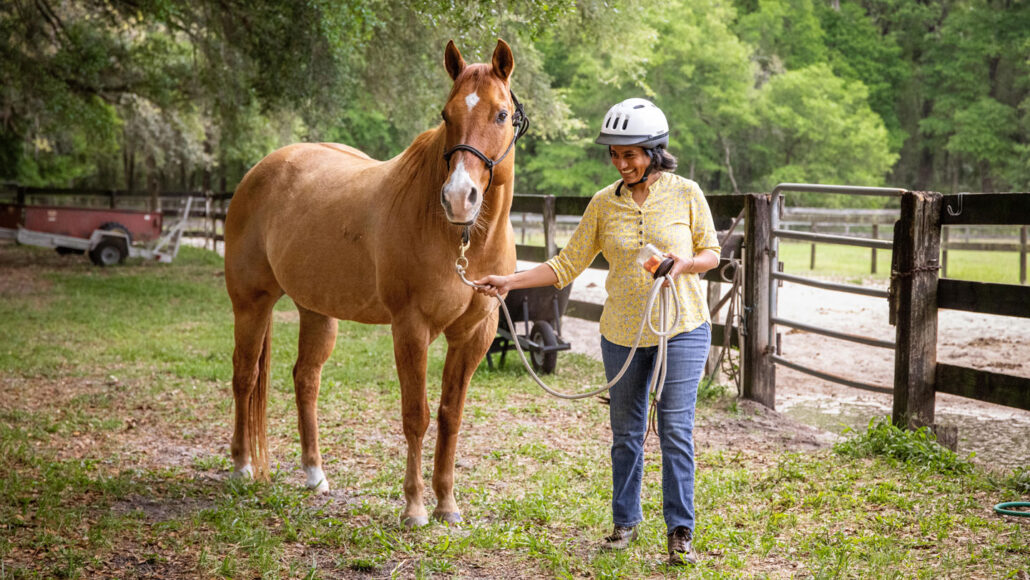horse: (230, 67, 513, 526)
human: (597, 116, 705, 557)
